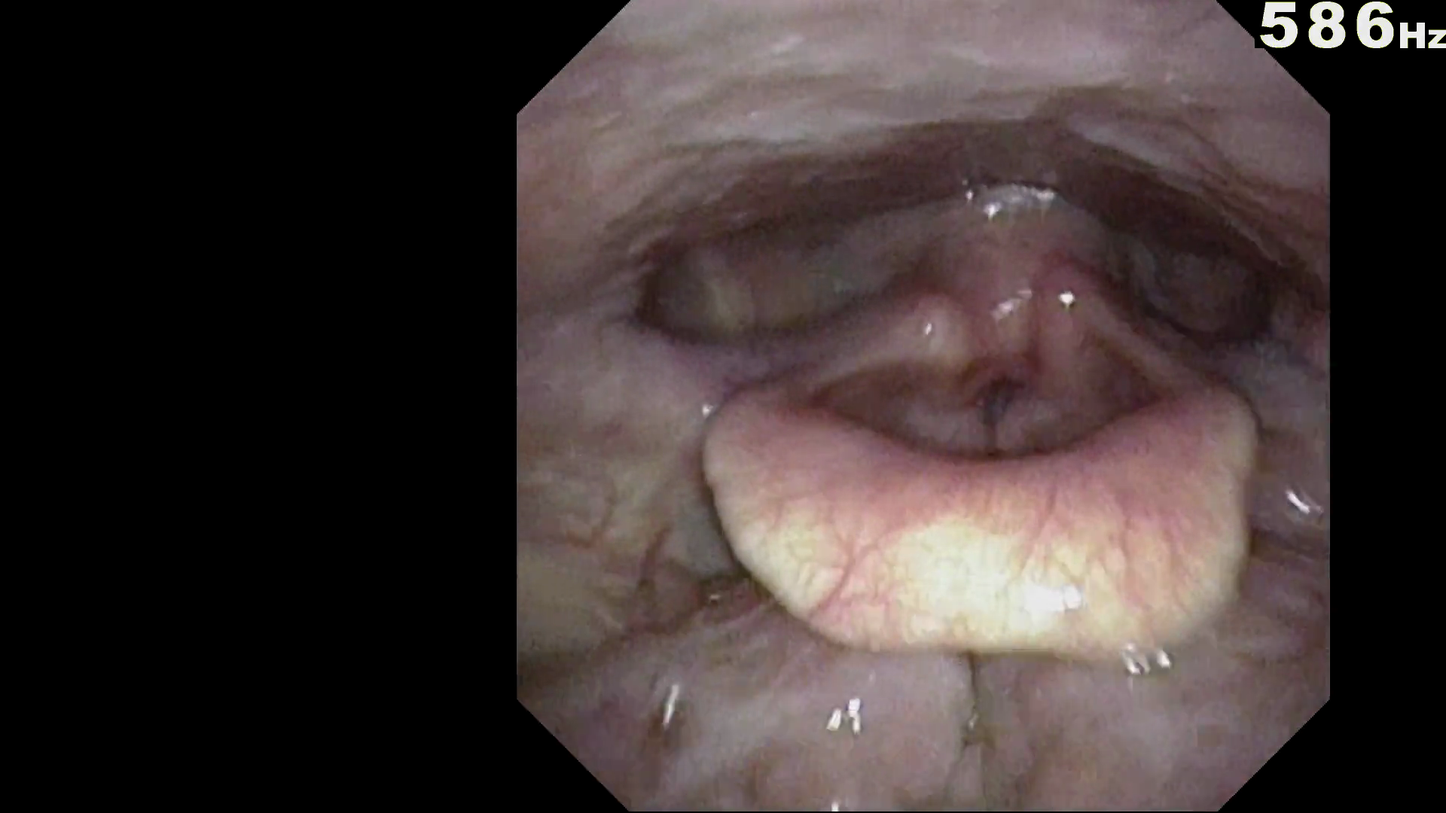epiglottis: (683, 334, 1271, 538)
